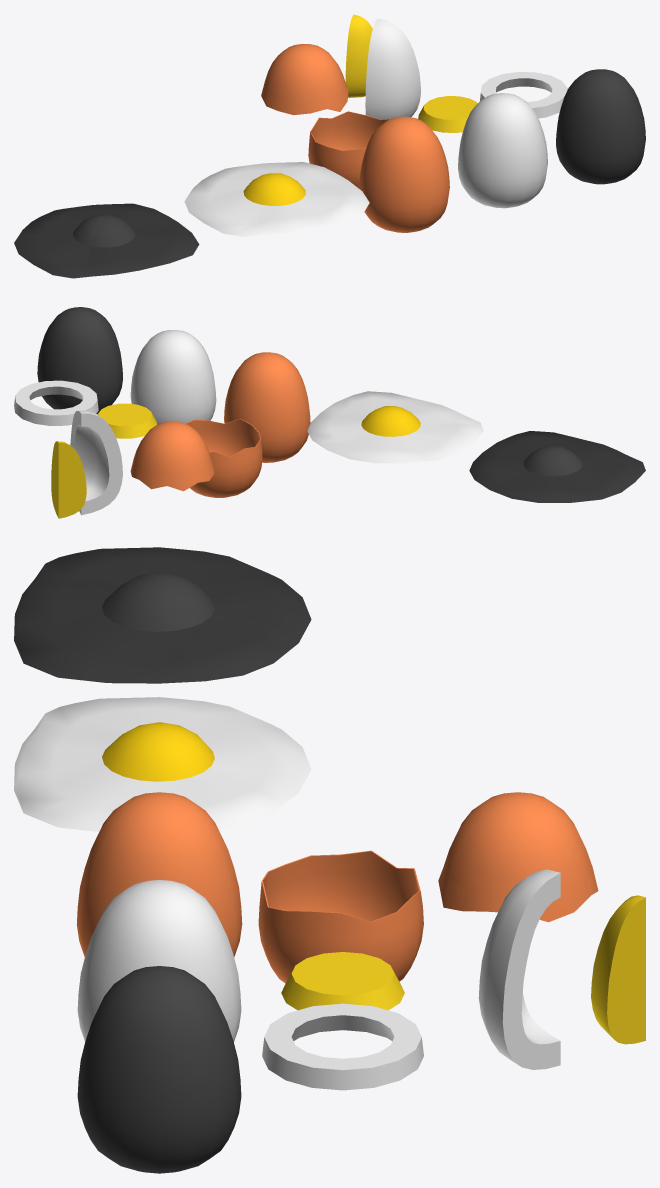
Rendered from egg.fbx.
3 views of the same model, one above another, from view 1: azimuth 30°, elevation 25°; view 2: azimuth 150°, elevation 25°; view 3: azimuth 270°, elevation 25° (orthographic). The views are drawn at different scales.
Visible parts, largest first — view 1: egg_Burnt, egg_Cooked, egg, egg_Boiled, egg_Boiled_Burnt, egg_Shell_Top, egg_Boiled_Sliced_2_White, egg_Shell_Bottom, egg_Boiled_Sliced_1_White, egg_Boiled_Sliced_2_Yellow, egg_Boiled_Sliced_1_Yellow; view 2: egg_Cooked, egg_Burnt, egg, egg_Boiled_Burnt, egg_Boiled, egg_Shell_Top, egg_Shell_Bottom, egg_Boiled_Sliced_2_White, egg_Boiled_Sliced_1_White, egg_Boiled_Sliced_2_Yellow, egg_Boiled_Sliced_1_Yellow; view 3: egg_Burnt, egg_Cooked, egg_Boiled_Burnt, egg_Shell_Bottom, egg, egg_Boiled, egg_Shell_Top, egg_Boiled_Sliced_2_White, egg_Boiled_Sliced_1_White, egg_Boiled_Sliced_2_Yellow, egg_Boiled_Sliced_1_Yellow.
Part boxes in pixels (left/top/right/bottom): egg_Burnt: left=14, top=203, right=199, bottom=278; egg_Cooked: left=184, top=162, right=369, bottom=236; egg: left=359, top=116, right=449, bottom=232; egg_Boiled: left=458, top=93, right=547, bottom=208; egg_Boiled_Burnt: left=556, top=69, right=645, bottom=184; egg_Shell_Top: left=261, top=44, right=348, bottom=115; egg_Boiled_Sliced_2_White: left=365, top=18, right=420, bottom=119; egg_Shell_Bottom: left=308, top=111, right=390, bottom=188; egg_Boiled_Sliced_1_White: left=479, top=72, right=567, bottom=118; egg_Boiled_Sliced_2_Yellow: left=345, top=14, right=372, bottom=97; egg_Boiled_Sliced_1_Yellow: left=418, top=96, right=477, bottom=132; egg_Cooked: left=307, top=391, right=483, bottom=463; egg_Burnt: left=469, top=431, right=645, bottom=502; egg: left=224, top=352, right=310, bottom=462; egg_Boiled_Burnt: left=37, top=307, right=122, bottom=413; egg_Boiled: left=130, top=329, right=216, bottom=424; egg_Shell_Top: left=130, top=421, right=214, bottom=491; egg_Shell_Bottom: left=185, top=418, right=262, bottom=497; egg_Boiled_Sliced_2_White: left=70, top=410, right=122, bottom=515; egg_Boiled_Sliced_1_White: left=14, top=380, right=98, bottom=425; egg_Boiled_Sliced_2_Yellow: left=51, top=441, right=86, bottom=518; egg_Boiled_Sliced_1_Yellow: left=97, top=403, right=156, bottom=438; egg_Burnt: left=14, top=547, right=311, bottom=683; egg_Cooked: left=14, top=697, right=311, bottom=831; egg_Boiled_Burnt: left=77, top=966, right=241, bottom=1173; egg_Shell_Bottom: left=258, top=850, right=423, bottom=983; egg: left=76, top=792, right=242, bottom=956; egg_Boiled: left=77, top=880, right=241, bottom=1041; egg_Shell_Top: left=438, top=792, right=598, bottom=922; egg_Boiled_Sliced_2_White: left=478, top=869, right=560, bottom=1069; egg_Boiled_Sliced_1_White: left=262, top=1003, right=423, bottom=1090; egg_Boiled_Sliced_2_Yellow: left=591, top=895, right=645, bottom=1044; egg_Boiled_Sliced_1_Yellow: left=281, top=952, right=404, bottom=1010.
Bounding box in the file's own units: 4.77 × 2.36 × 0.8012.
